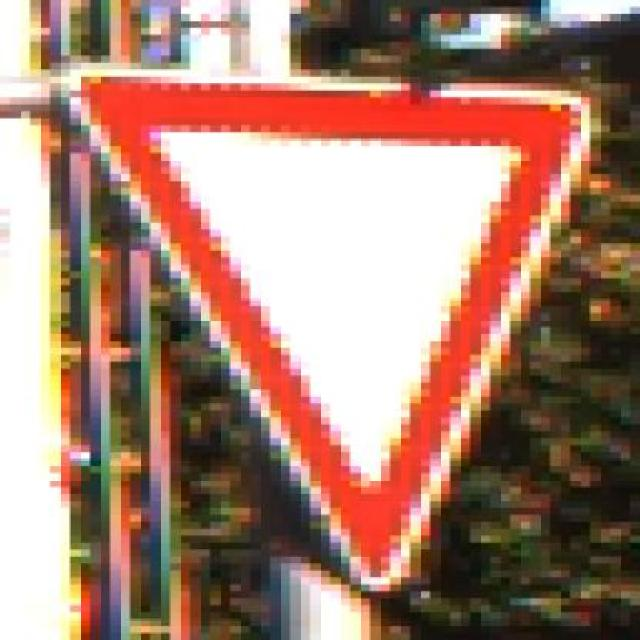Give Way: (50, 49, 610, 598)
